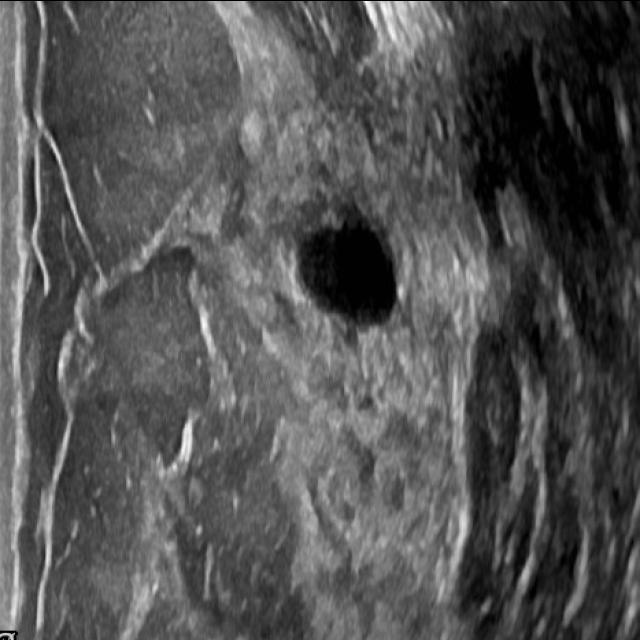Benign: (289, 215, 393, 326)
